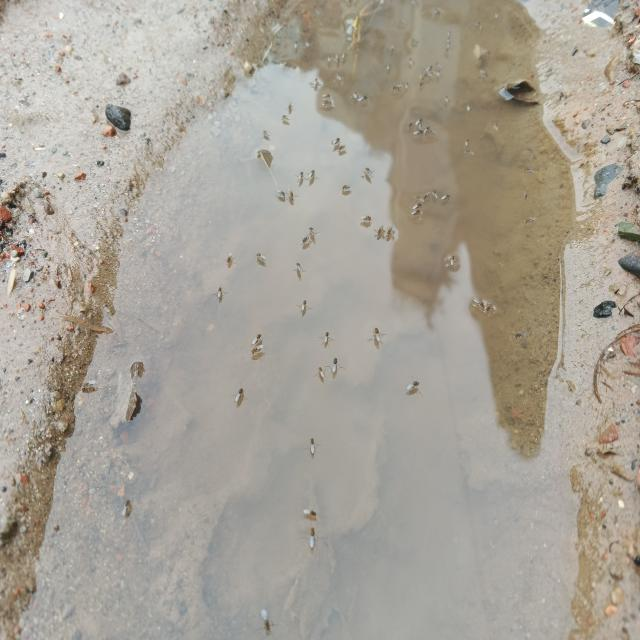Breeding Place: (0, 0, 591, 640)
